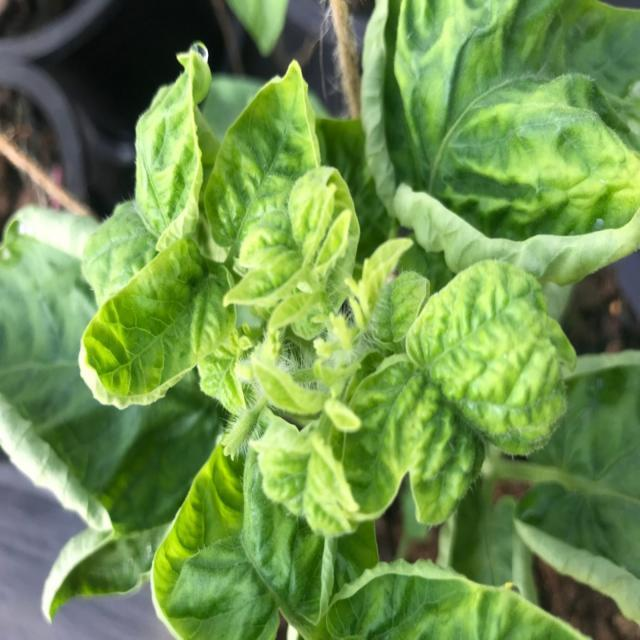Yellow Curl Virus: (361, 0, 640, 279), (408, 234, 586, 460), (74, 237, 240, 416), (346, 349, 479, 531), (208, 57, 324, 258), (329, 562, 591, 640), (130, 38, 208, 245), (32, 530, 150, 624)
